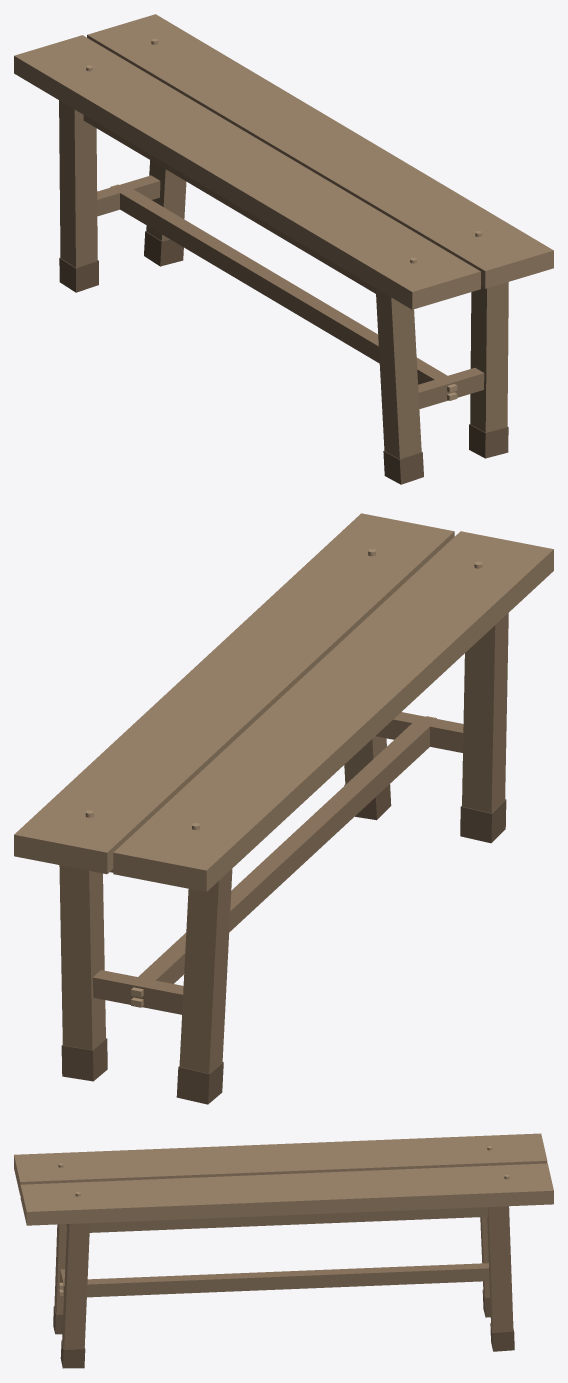
The model's file is south_indian_village_wooden_bench.glb.
3 renders of one model, top to bottom at view 1: azimuth 30°, elevation 25°; view 2: azimuth 150°, elevation 25°; view 3: azimuth 270°, elevation 25°, orthographic. The views are drawn at different scales.
Visible parts, largest first — view 1: Bench_Seat_Planks, Lower_Stretcher_Assembly, Leg_1, Leg_2, Leg_3, Leg_4, Under_Seat_Support_Aprons; view 2: Bench_Seat_Planks, Lower_Stretcher_Assembly, Leg_2, Leg_1, Leg_4, Leg_3; view 3: Bench_Seat_Planks, Lower_Stretcher_Assembly, Under_Seat_Support_Aprons, Leg_3, Leg_4, Leg_1, Leg_2.
Boxes of the visible parts, <box> form: Bench_Seat_Planks: <box>14,14,553,309</box>; Lower_Stretcher_Assembly: <box>97,175,484,409</box>; Leg_1: <box>375,288,423,484</box>; Leg_2: <box>59,100,98,292</box>; Leg_3: <box>469,282,508,458</box>; Leg_4: <box>144,160,186,266</box>; Under_Seat_Support_Aprons: <box>83,115,375,293</box>; Bench_Seat_Planks: <box>14,513,553,891</box>; Lower_Stretcher_Assembly: <box>92,712,463,1014</box>; Leg_2: <box>176,869,232,1104</box>; Leg_1: <box>460,613,508,843</box>; Leg_4: <box>59,865,107,1081</box>; Leg_3: <box>344,736,391,820</box>; Bench_Seat_Planks: <box>14,1133,553,1225</box>; Lower_Stretcher_Assembly: <box>59,1263,489,1297</box>; Under_Seat_Support_Aprons: <box>65,1207,488,1232</box>; Leg_3: <box>60,1223,89,1368</box>; Leg_4: <box>487,1206,514,1351</box>; Leg_1: <box>53,1224,66,1334</box>; Leg_2: <box>480,1217,490,1317</box>.
Size of the model in its own units: 0.5209 by 0.5271 by 1.53.
